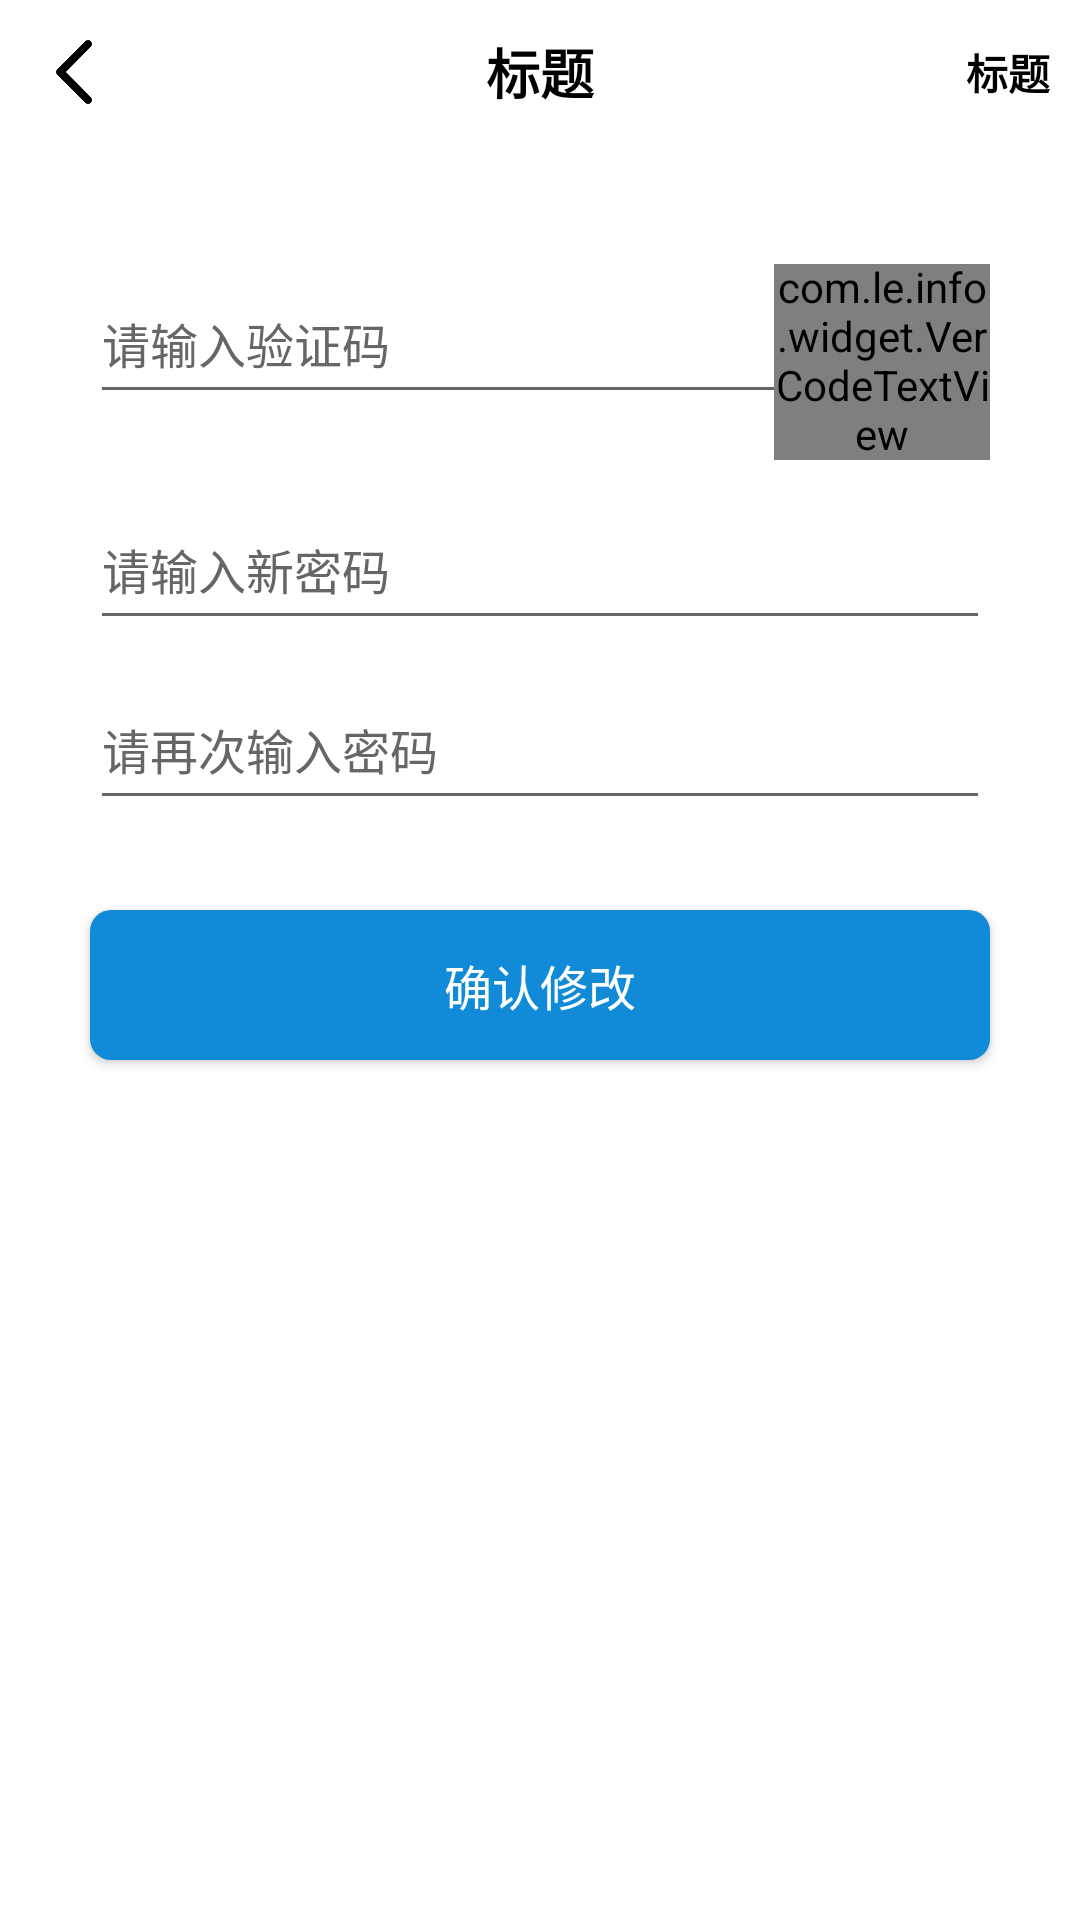

Icons on this 1080 × 1920 Android screen, each with its box as rect(x1, y1, x2, y2):
back: rect(56, 40, 92, 104)
